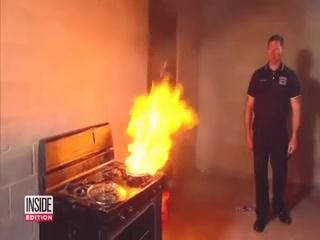Fire: (124, 32, 220, 176)
